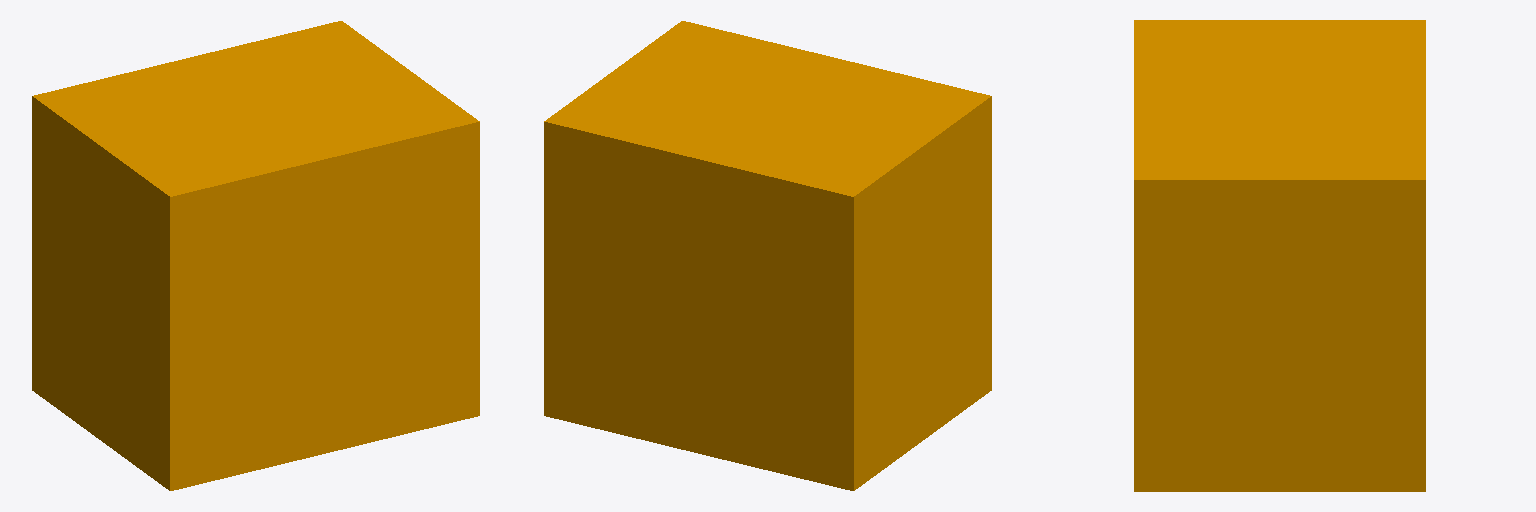
robot.urdf — object:
<robot name="object">
  <link name="object">
    <visual>
      <origin xyz="0 0 0" />
      <geometry>
        <box size="0.08800000000000002 0.068 0.08" />
      </geometry>
    </visual>

    <collision>
      <origin xyz="0 0 0" />
      <geometry>
        <box size="0.08800000000000002 0.068 0.08" />
      </geometry>
    </collision>

    <inertial>
      <mass value="0.05" />
      <inertia ixx="0.0001" ixy="0.0" ixz="0.0" iyy="0.0001" iyz="0.0" izz="0.0001" />
    </inertial>
  </link>
</robot>

--- What the picture shows (computed from the rendered views, not written in the file) ---
The picture shows the robot from 3 angles, left to right: view 1: azimuth 30°, elevation 25°; view 2: azimuth 150°, elevation 25°; view 3: azimuth 270°, elevation 25°; orthographic projection.
Model object with 1 links and 0 joints (none), rooted at object, posed all joints at 0.
Visible links, largest first — view 1: object; view 2: object; view 3: object.
Link boxes in pixels (x1,y1,x2,y2): object: (32, 21, 479, 490); object: (544, 21, 991, 490); object: (1134, 20, 1425, 491).
Size in the robot's own frame: 0.088 by 0.068 by 0.08 metres.
Geometry: primitives only (box / cylinder / sphere), no mesh files.